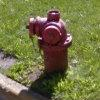Hydrant: (23, 6, 76, 72)
